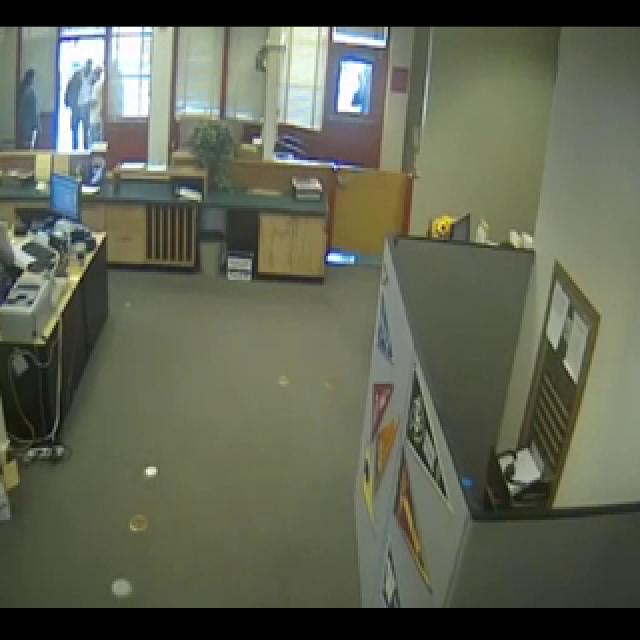arrest: (0, 8, 165, 195)
